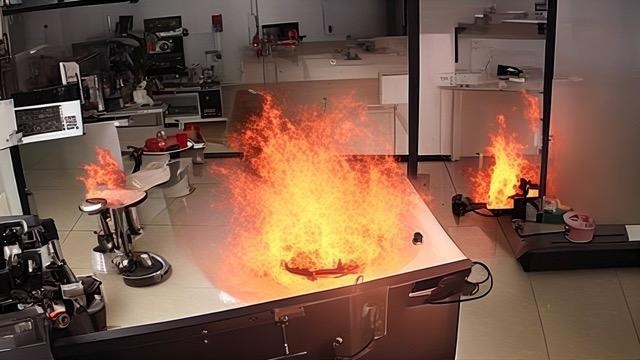fire: (216, 85, 400, 298), (466, 90, 556, 215), (69, 140, 156, 215)
